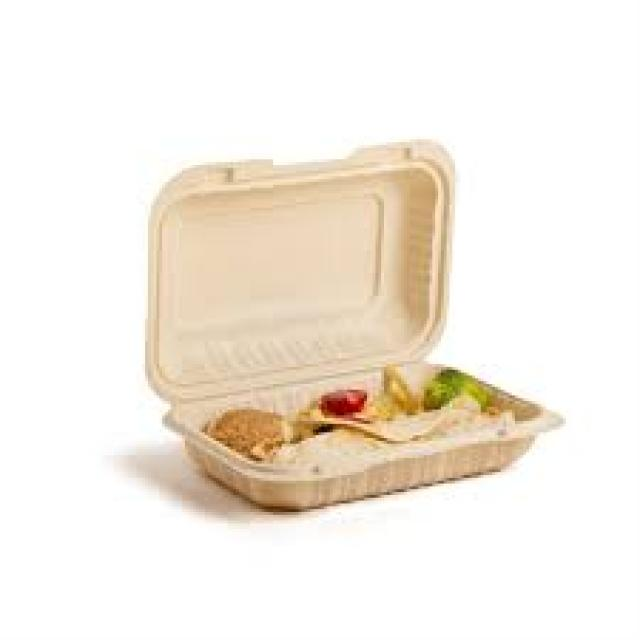disposable: (162, 322, 557, 524)
